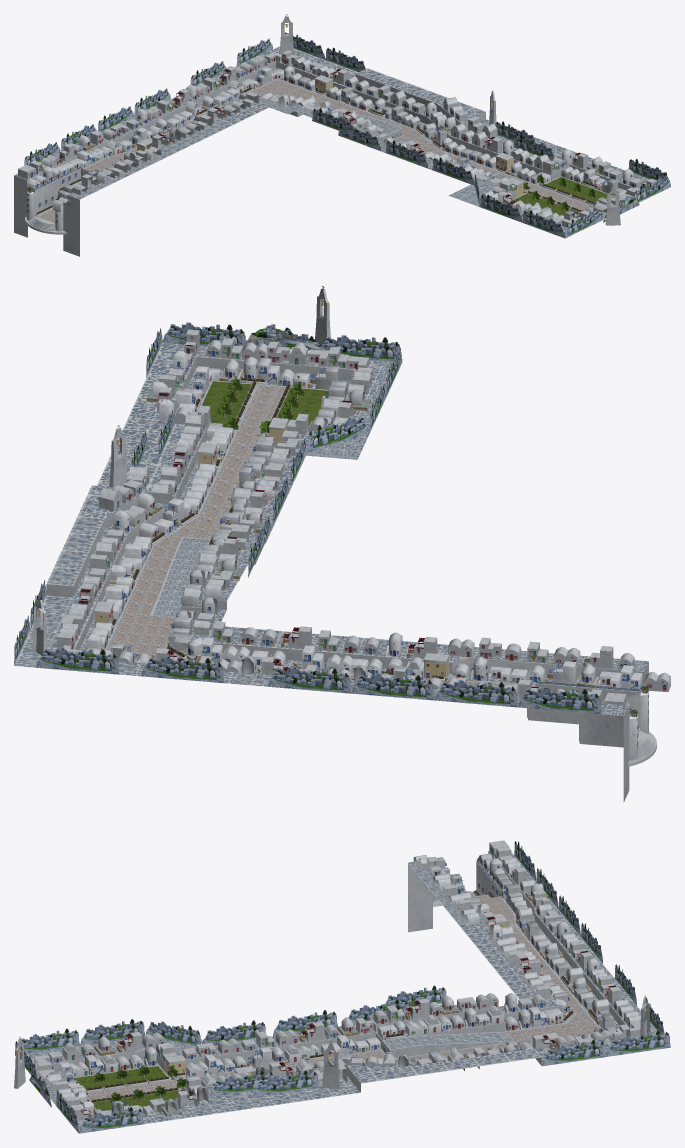
3 views of the same model, one above another, from view 1: azimuth 30°, elevation 25°; view 2: azimuth 150°, elevation 25°; view 3: azimuth 270°, elevation 25° (orthographic). The views are drawn at different scales.
Visible parts, largest first — view 1: stg011_terr_124, stg011_terr_169, stg011_terr_164, stg011_terr_62, stg011_terr_59; view 2: stg011_terr_124, stg011_terr_169, stg011_terr_62, stg011_terr_164, stg011_terr_59; view 3: stg011_terr_124, stg011_terr_169, stg011_terr_164, stg011_terr_62, stg011_terr_59.
Part boxes in pixels (left/top/right/bottom): stg011_terr_124: left=14, top=46, right=649, bottom=256; stg011_terr_169: left=27, top=50, right=644, bottom=192; stg011_terr_164: left=24, top=14, right=670, bottom=238; stg011_terr_62: left=385, top=91, right=656, bottom=227; stg011_terr_59: left=18, top=131, right=161, bottom=222; stg011_terr_124: left=14, top=343, right=656, bottom=802; stg011_terr_169: left=57, top=344, right=649, bottom=717; stg011_terr_62: left=109, top=329, right=372, bottom=544; stg011_terr_164: left=14, top=286, right=601, bottom=714; stg011_terr_59: left=445, top=637, right=670, bottom=746; stg011_terr_124: left=26, top=851, right=656, bottom=1131; stg011_terr_169: left=52, top=856, right=640, bottom=1102; stg011_terr_164: left=14, top=841, right=670, bottom=1133; stg011_terr_62: left=34, top=1029, right=403, bottom=1119; stg011_terr_59: left=413, top=840, right=548, bottom=925.
Bounding box in the file's own units: 40572 × 7817 × 39343.
